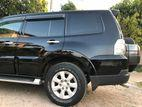car: (0, 9, 141, 106)
